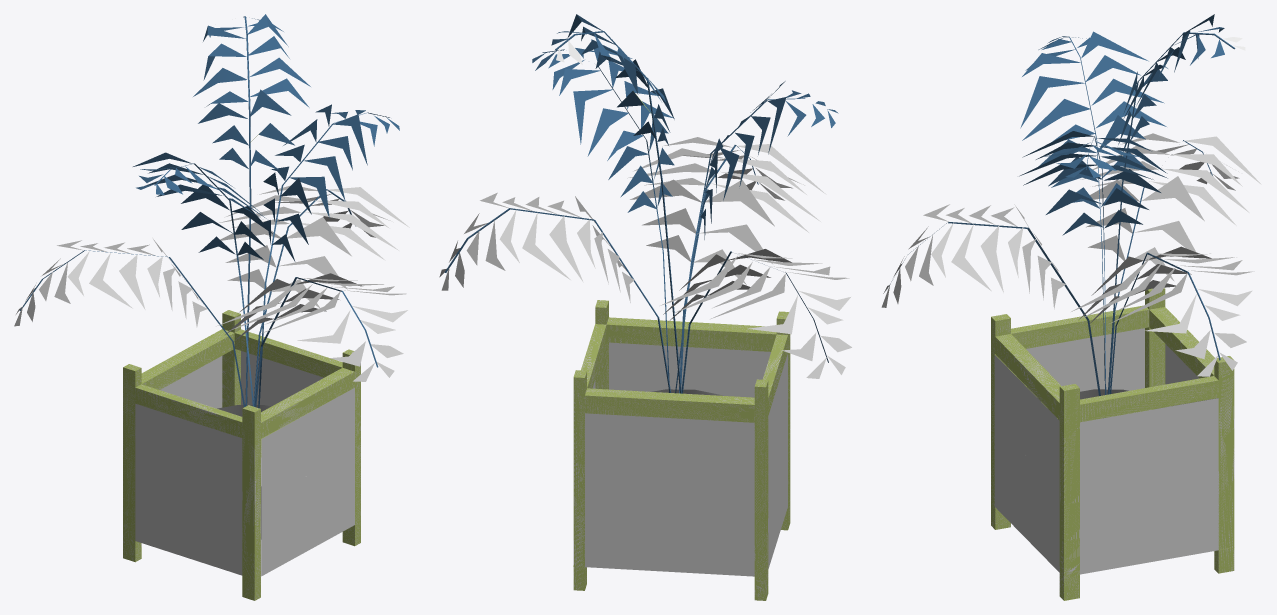
3 renders of one model, left to right at view 1: azimuth 30°, elevation 25°; view 2: azimuth 150°, elevation 25°; view 3: azimuth 270°, elevation 25°, orthographic. The views are drawn at different scales.
Parts seen in each view (by area): view 1: mesh150_mesh150-geometry, mesh138_mesh138-geometry, mesh14_mesh14-geometry, mesh140_mesh140-geometry, mesh92_mesh92-geometry; view 2: mesh150_mesh150-geometry, mesh138_mesh138-geometry, mesh14_mesh14-geometry, mesh75_mesh75-geometry, mesh140_mesh140-geometry, mesh99_mesh99-geometry, mesh74_mesh74-geometry, mesh100_mesh100-geometry, mesh50_mesh50-geometry, mesh49_mesh49-geometry; view 3: mesh150_mesh150-geometry, mesh138_mesh138-geometry, mesh135_mesh135-geometry, mesh26_mesh26-geometry, mesh14_mesh14-geometry, mesh25_mesh25-geometry, mesh76_mesh76-geometry, mesh140_mesh140-geometry, mesh90_mesh90-geometry, mesh117_mesh117-geometry, mesh128_mesh128-geometry, mesh19_mesh19-geometry (+1 smaller).
Boxes of the visible parts, x1,y1,x2,y2 form: mesh150_mesh150-geometry: [123, 310, 360, 600]; mesh138_mesh138-geometry: [85, 190, 326, 407]; mesh14_mesh14-geometry: [194, 123, 333, 408]; mesh140_mesh140-geometry: [245, 34, 251, 406]; mesh92_mesh92-geometry: [287, 217, 351, 256]; mesh150_mesh150-geometry: [573, 300, 790, 600]; mesh138_mesh138-geometry: [511, 189, 777, 393]; mesh14_mesh14-geometry: [598, 66, 767, 393]; mesh75_mesh75-geometry: [705, 180, 774, 226]; mesh140_mesh140-geometry: [604, 32, 681, 393]; mesh99_mesh99-geometry: [549, 216, 583, 282]; mesh74_mesh74-geometry: [698, 224, 772, 263]; mesh100_mesh100-geometry: [522, 212, 570, 279]; mesh50_mesh50-geometry: [587, 108, 628, 156]; mesh49_mesh49-geometry: [573, 89, 612, 144]; mesh150_mesh150-geometry: [991, 288, 1234, 600]; mesh138_mesh138-geometry: [1027, 187, 1187, 395]; mesh135_mesh135-geometry: [1142, 176, 1204, 221]; mesh26_mesh26-geometry: [1022, 99, 1089, 140]; mesh14_mesh14-geometry: [1080, 58, 1106, 394]; mesh25_mesh25-geometry: [1020, 76, 1084, 128]; mesh76_mesh76-geometry: [980, 225, 1003, 292]; mesh140_mesh140-geometry: [1107, 33, 1183, 394]; mesh90_mesh90-geometry: [951, 224, 991, 291]; mesh117_mesh117-geometry: [1134, 221, 1199, 258]; mesh128_mesh128-geometry: [1162, 168, 1249, 212]; mesh19_mesh19-geometry: [1081, 31, 1148, 61].
Size of the model in its own units: 0.5424 by 0.7113 by 0.447.
